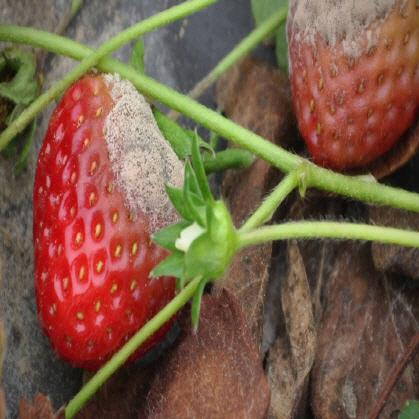Gray Mold: (94, 71, 184, 246)
